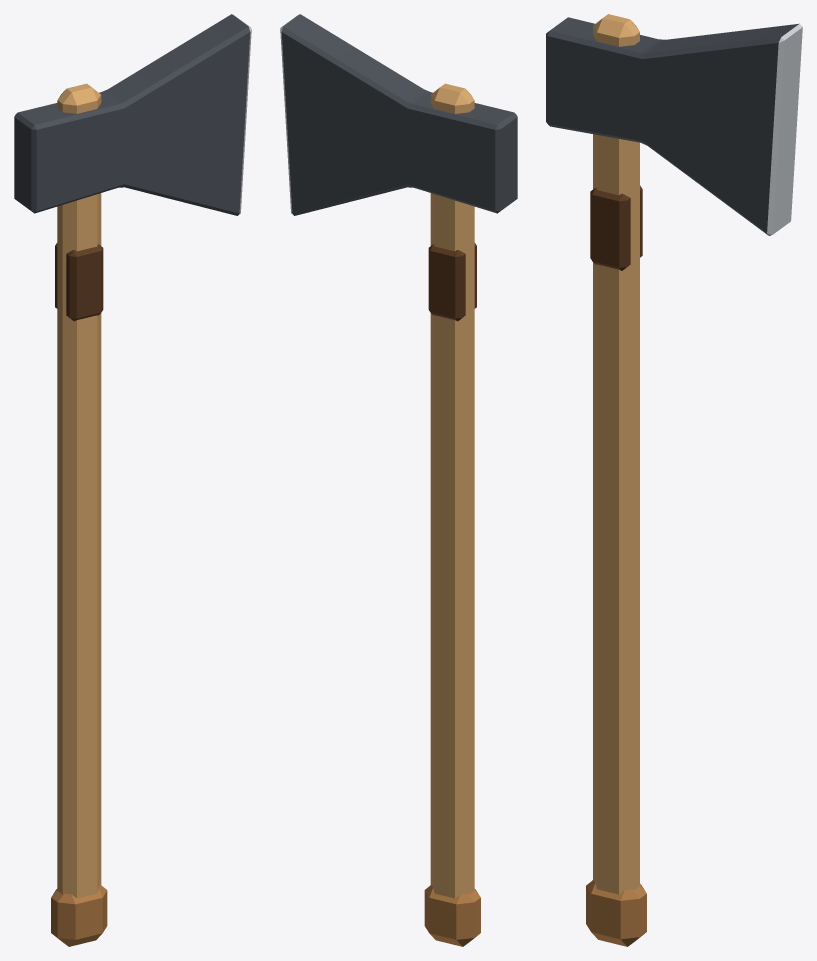
File: SM_Axe.glb
3 views of the same model, side by side, from view 1: azimuth 30°, elevation 25°; view 2: azimuth 150°, elevation 25°; view 3: azimuth 330°, elevation 25° (orthographic). The views are drawn at different scales.
Visible parts, largest first — view 1: SM_Axe; view 2: SM_Axe; view 3: SM_Axe.
Boxes of the visible parts, x1,y1,x2,y2 form: SM_Axe: (14, 14, 251, 946); SM_Axe: (280, 14, 517, 946); SM_Axe: (546, 14, 802, 946).
Size of the model in its own units: 0.1948 by 0.744 by 0.032.
1 material, 1 textured.
